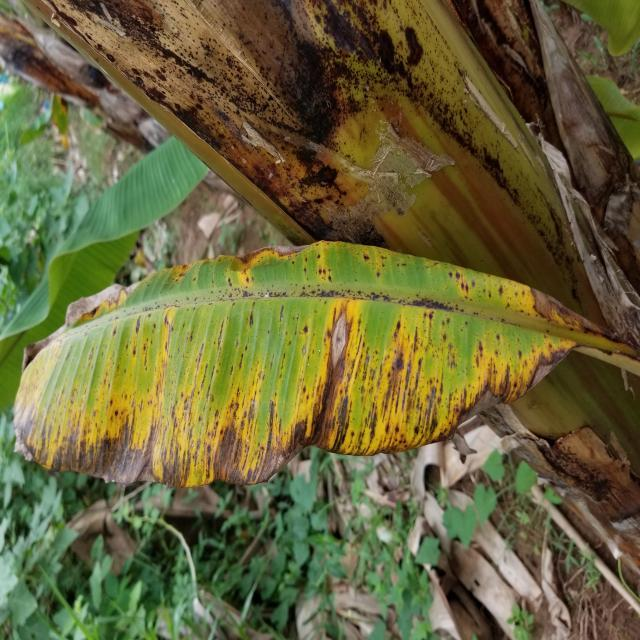Early_rust: (15, 238, 608, 492)
